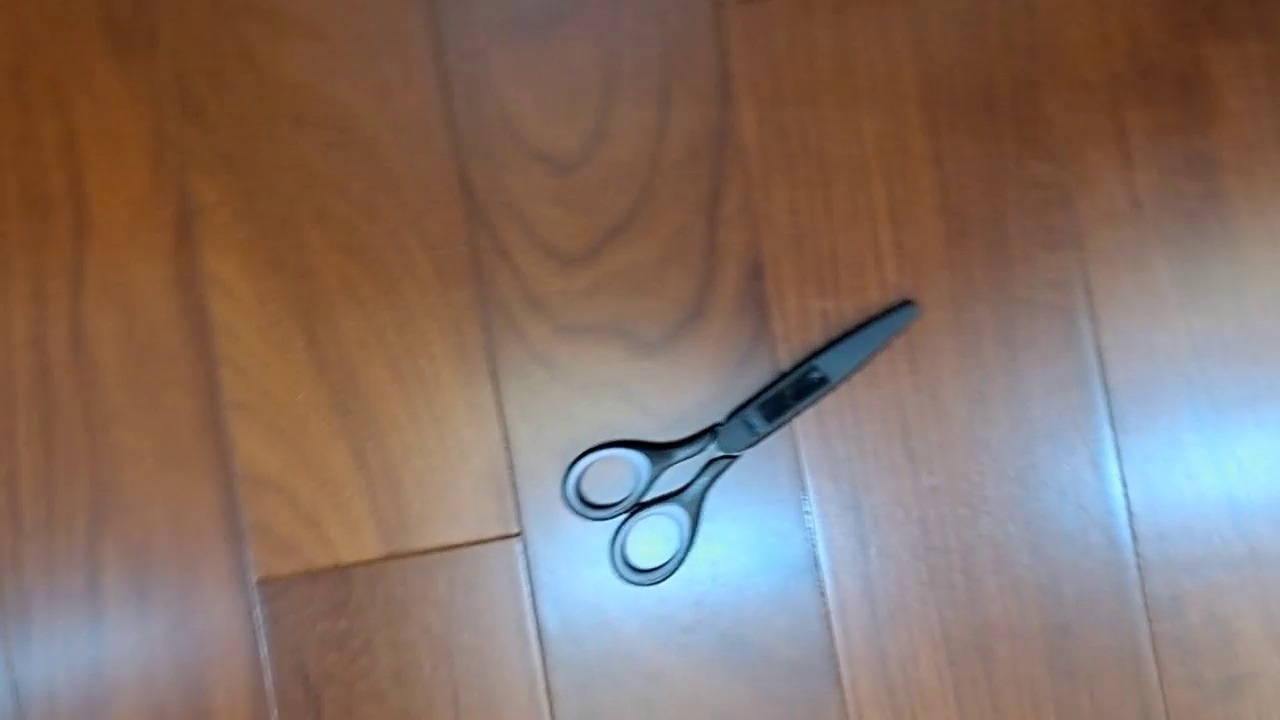scissors: (560, 295, 924, 587)
